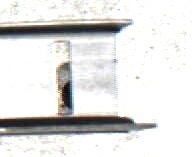40ngpress: (9, 18, 143, 132)
